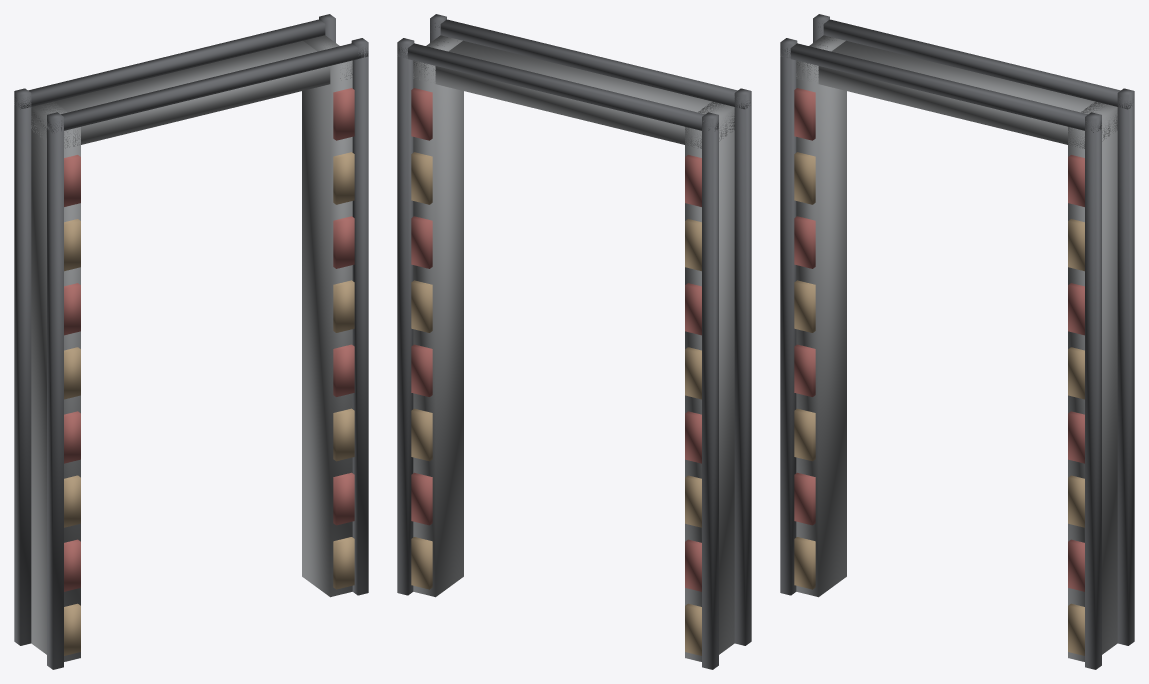
Rendered from doorway_brick_return_w122_h240_d24.glb.
3 renders of one model, left to right at view 1: azimuth 30°, elevation 25°; view 2: azimuth 150°, elevation 25°; view 3: azimuth 330°, elevation 25°, orthographic.
Parts seen in each view (by area): view 1: world; view 2: world; view 3: world.
Boxes of the visible parts, x1,y1,x2,y2 form: world: (14,14,368,669); world: (397,14,751,669); world: (780,14,1134,669).
Bounding box in the file's own units: 1.55 × 2.58 × 0.3296.
